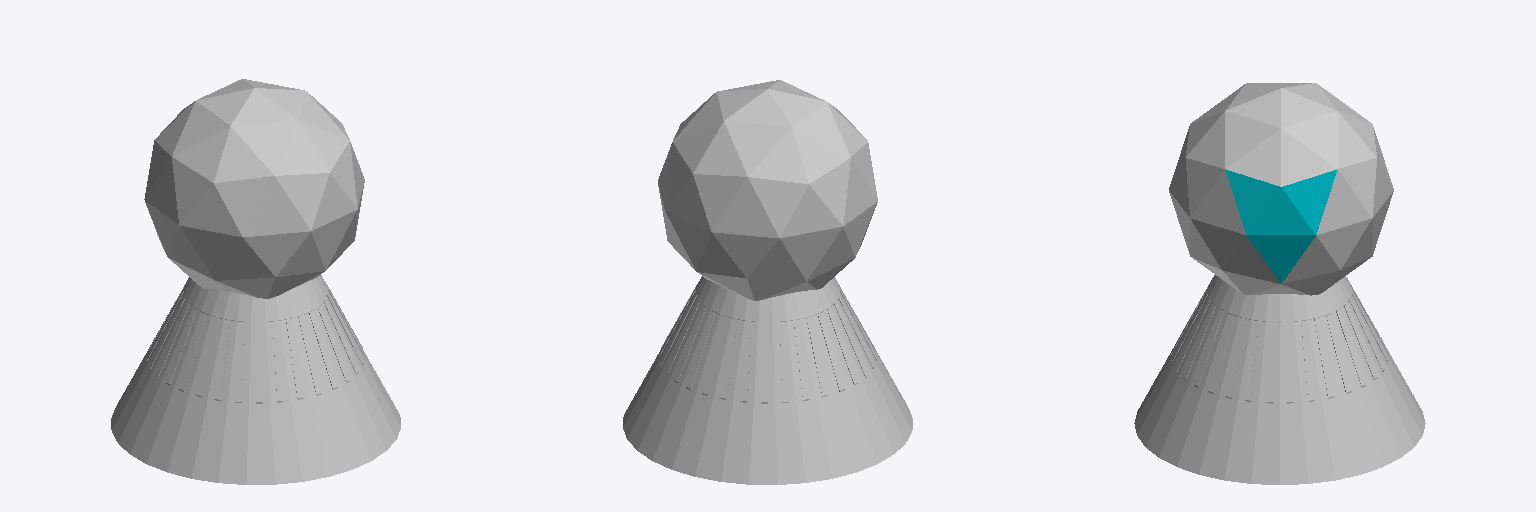
Rendered from scientist.obj.
3 views of the same model, side by side, from view 1: azimuth 30°, elevation 25°; view 2: azimuth 150°, elevation 25°; view 3: azimuth 270°, elevation 25° (orthographic).
Parts seen in each view (by area): view 1: Sphere, Icosphere; view 2: Sphere, Icosphere; view 3: Sphere, Icosphere.
Boxes of the visible parts, x1=… form: Sphere: x1=111, y1=275, x2=400, y2=484; Icosphere: x1=144, y1=79, x2=364, y2=298; Sphere: x1=623, y1=276, x2=912, y2=484; Icosphere: x1=658, y1=80, x2=877, y2=300; Sphere: x1=1134, y1=275, x2=1425, y2=484; Icosphere: x1=1169, y1=83, x2=1393, y2=295.
Size of the model in its own units: 2 by 2.54 by 2.